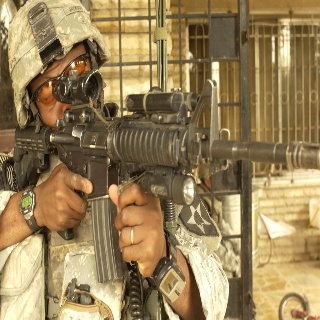rifle: (13, 67, 320, 282)
